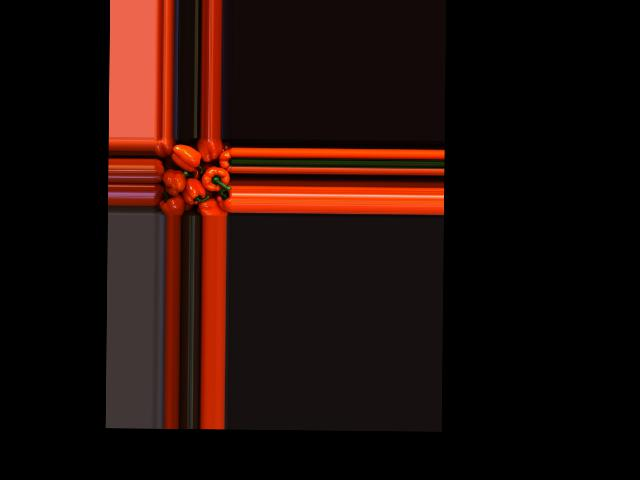bell_pepper: (153, 178, 170, 208)
